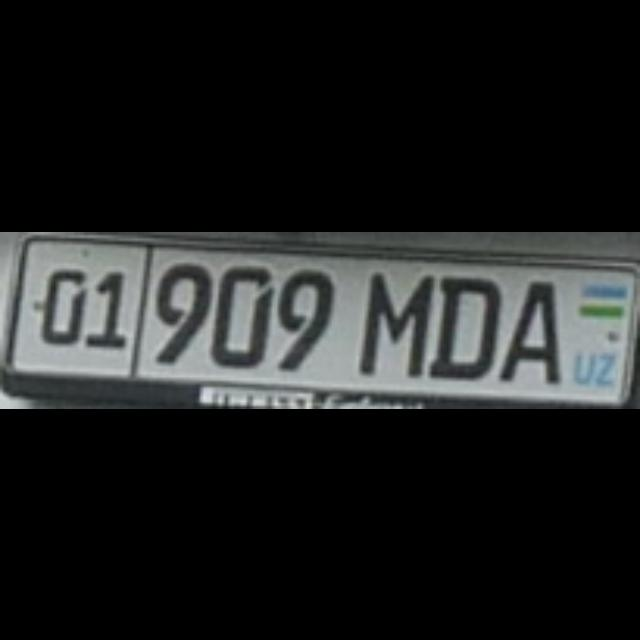0: (210, 262, 268, 366), (37, 266, 81, 340)
1: (81, 268, 125, 344)
9: (272, 266, 328, 368), (154, 260, 206, 362)
A: (496, 278, 556, 378)
D: (424, 274, 496, 378)
M: (356, 268, 424, 372)
